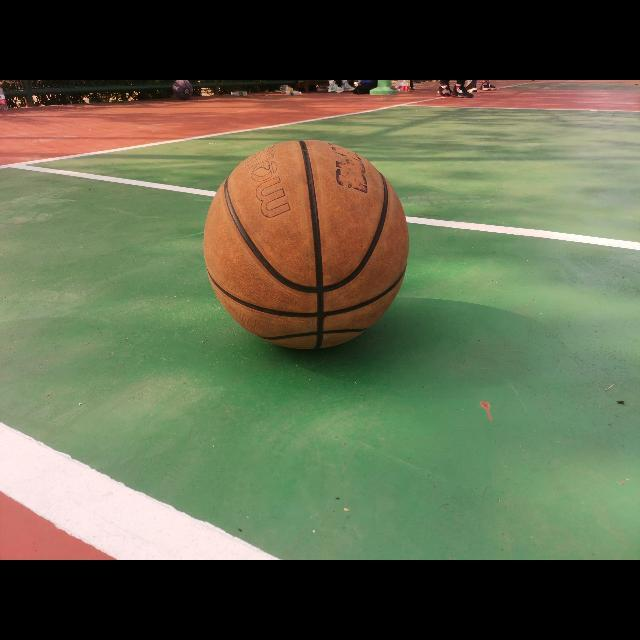basketball: (205, 142, 407, 350)
